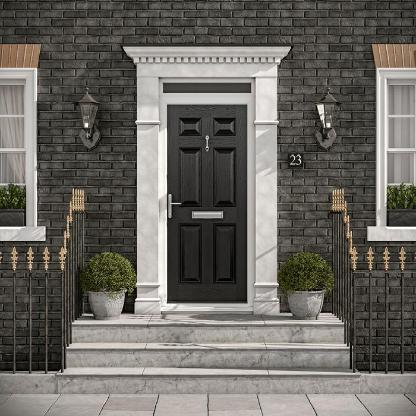door: (155, 71, 255, 311)
stair: (54, 313, 359, 399)
